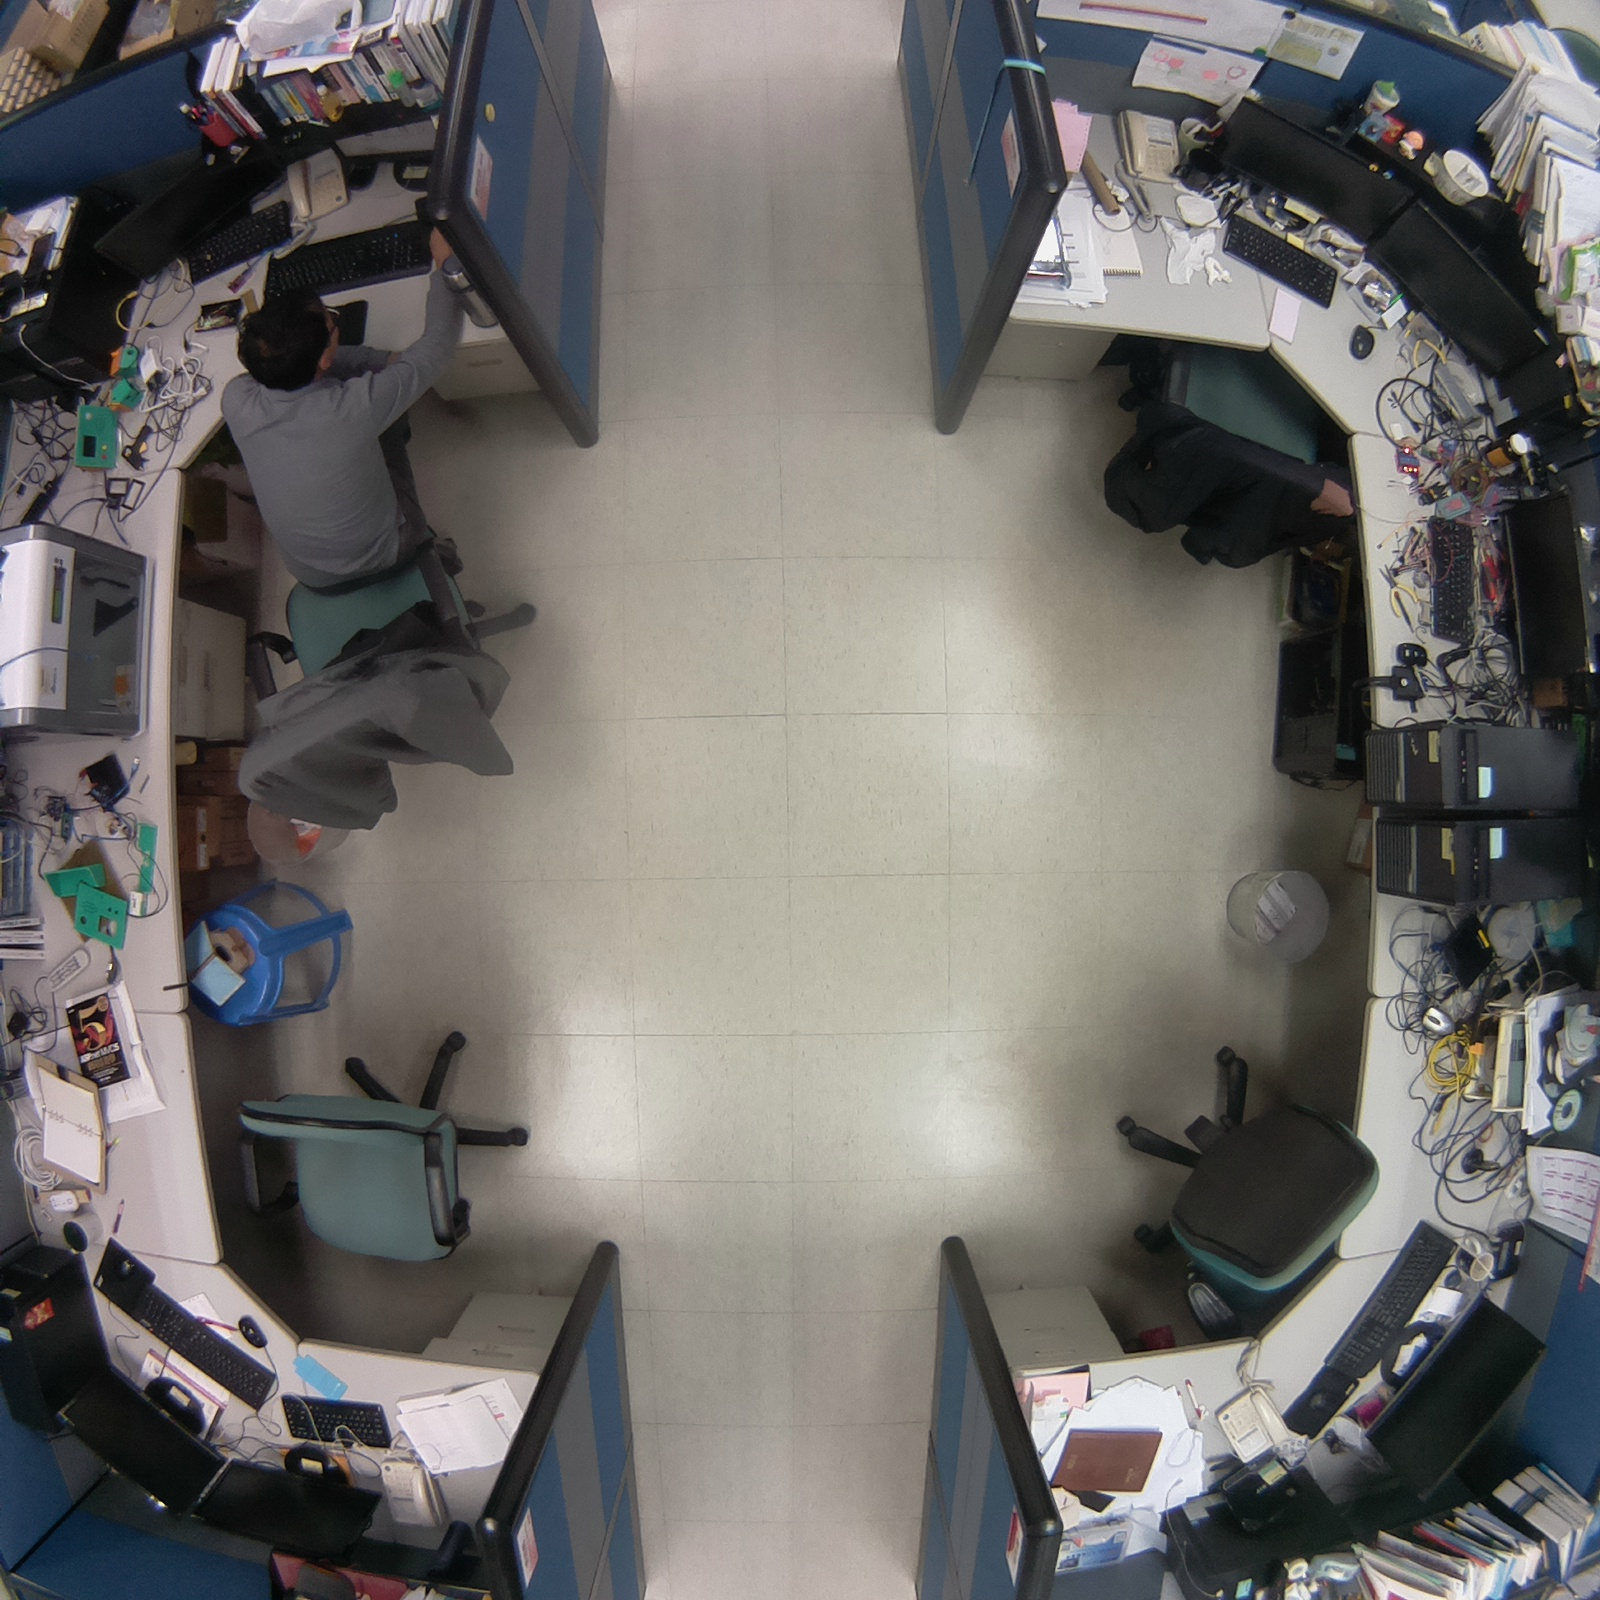chair: (1092, 1027, 1399, 1352), (217, 1012, 560, 1281), (1086, 314, 1379, 590)
sitting: (210, 190, 554, 848)
